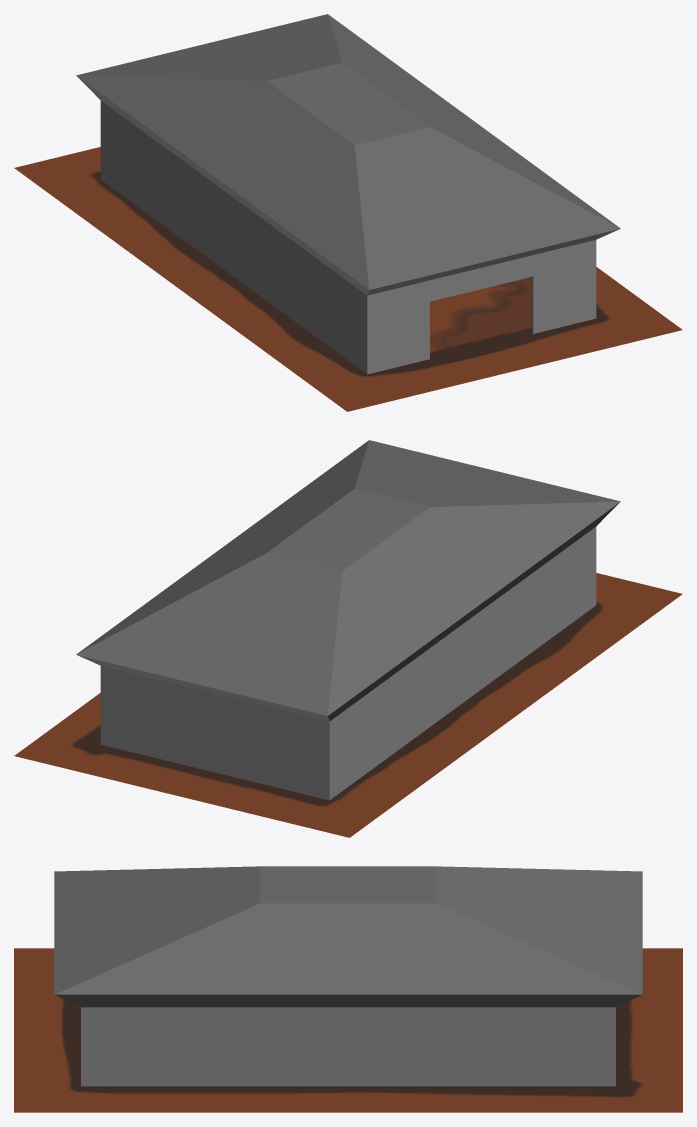
File: basurero.fbx
The picture shows the model from 3 angles, top to bottom: view 1: azimuth 30°, elevation 25°; view 2: azimuth 150°, elevation 25°; view 3: azimuth 270°, elevation 25°; orthographic projection.
Parts seen in each view (by area): view 1: Basurero, Plane; view 2: Basurero, Plane; view 3: Basurero, Plane.
Part boxes in pixels (x1,y1,x2,y2): Basurero: (76, 14, 620, 374); Plane: (14, 147, 682, 411); Basurero: (76, 440, 620, 800); Plane: (14, 573, 682, 837); Basurero: (54, 866, 642, 1086); Plane: (14, 948, 682, 1112).
Bounding box in the file's own units: 534 × 221 × 919.
